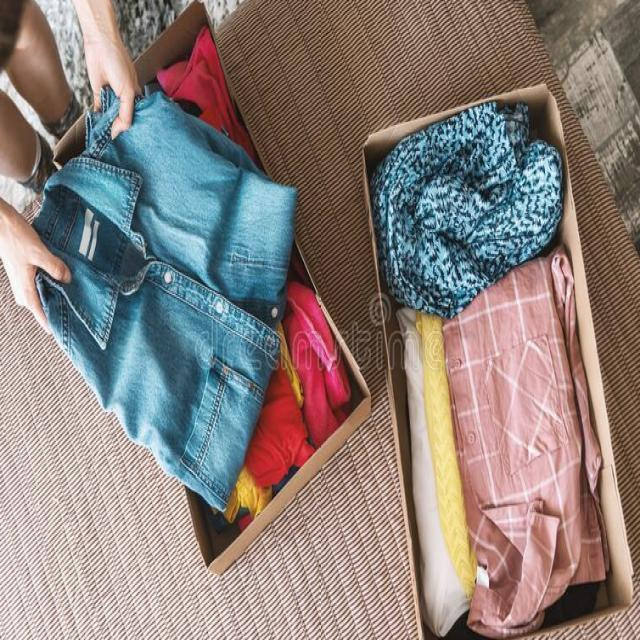clothes: (27, 103, 274, 466), (424, 254, 577, 636), (384, 116, 536, 284)
